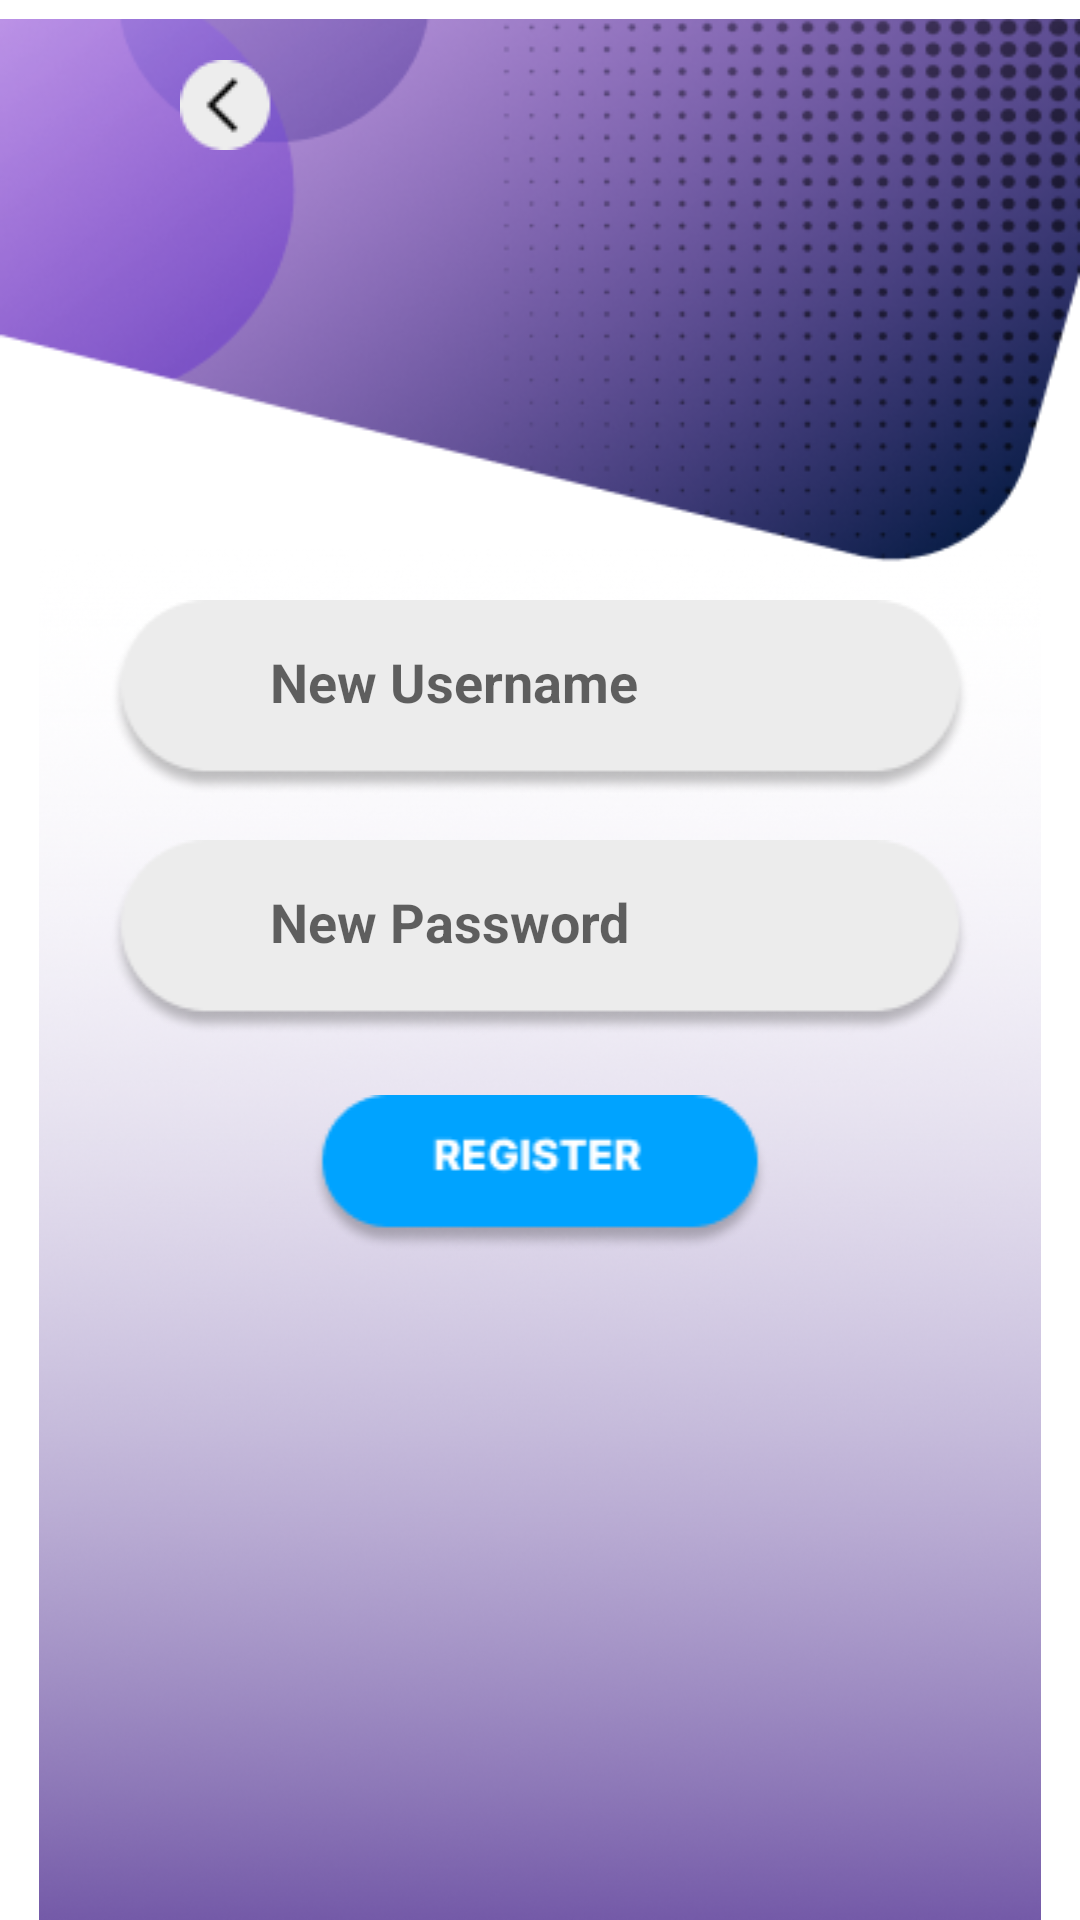

Screen size 1080x1920. Icon name, then its box in pixels as (x1, y1, x2, y2):
backgrp: (180, 60, 271, 150)
